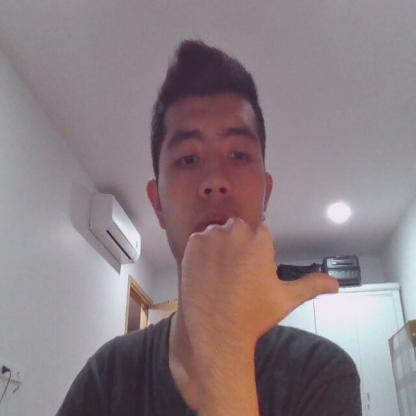left: (181, 216, 339, 338)
